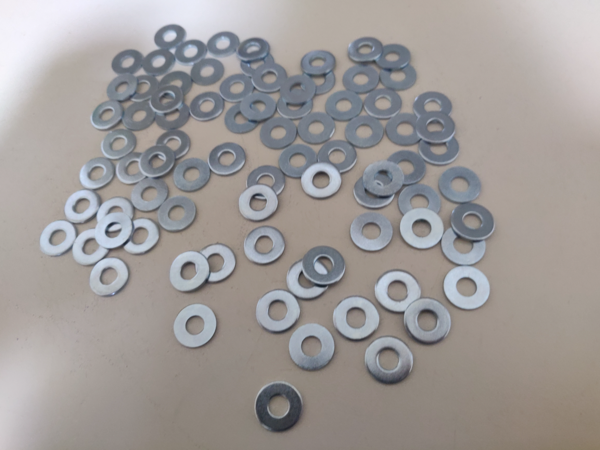circle: (255, 382, 304, 433), (365, 337, 413, 385), (405, 297, 451, 346), (289, 324, 334, 373), (332, 297, 380, 341), (444, 266, 490, 310), (256, 290, 301, 334), (376, 270, 420, 315), (173, 305, 219, 348), (400, 209, 445, 251), (442, 225, 486, 267), (302, 246, 346, 286), (287, 260, 331, 300), (244, 226, 287, 266), (89, 258, 130, 299), (170, 252, 210, 294), (350, 213, 393, 252), (196, 244, 237, 284), (451, 203, 494, 240), (364, 160, 404, 199), (439, 167, 482, 203), (397, 185, 441, 220), (239, 185, 279, 223), (301, 163, 343, 199), (354, 173, 396, 209), (385, 150, 426, 186), (317, 140, 357, 176), (122, 218, 159, 256), (71, 230, 109, 267), (39, 221, 78, 257), (247, 165, 286, 201), (418, 131, 458, 166), (96, 213, 133, 250), (97, 197, 135, 233), (158, 197, 197, 232), (278, 141, 317, 176), (385, 112, 424, 147), (173, 158, 211, 193), (345, 115, 384, 149), (130, 177, 168, 211), (209, 143, 247, 177), (298, 111, 336, 145), (417, 111, 456, 144), (413, 92, 453, 124), (64, 190, 101, 224), (325, 89, 363, 122), (78, 158, 115, 191), (260, 117, 297, 150), (116, 153, 152, 186), (139, 145, 175, 178), (224, 103, 261, 134), (240, 92, 277, 122), (364, 89, 401, 119), (379, 61, 417, 90), (102, 128, 135, 161), (122, 99, 156, 131), (157, 130, 192, 161), (277, 90, 313, 120), (280, 75, 316, 105), (240, 51, 276, 81), (155, 101, 191, 131), (91, 100, 125, 131), (252, 64, 287, 94), (190, 92, 224, 122), (301, 66, 336, 95), (344, 64, 379, 93), (220, 72, 255, 101), (374, 44, 411, 71), (159, 71, 192, 101), (191, 58, 225, 87), (348, 37, 384, 64), (150, 85, 183, 114), (300, 51, 337, 76), (106, 73, 139, 101), (126, 75, 159, 102), (207, 31, 239, 58), (175, 40, 207, 66), (154, 24, 186, 50), (143, 50, 175, 76), (237, 38, 270, 62), (112, 50, 143, 75)
